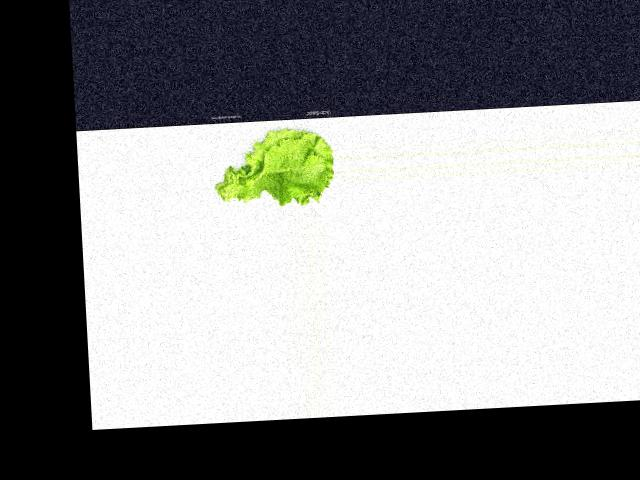lettuce: (214, 120, 335, 210)
